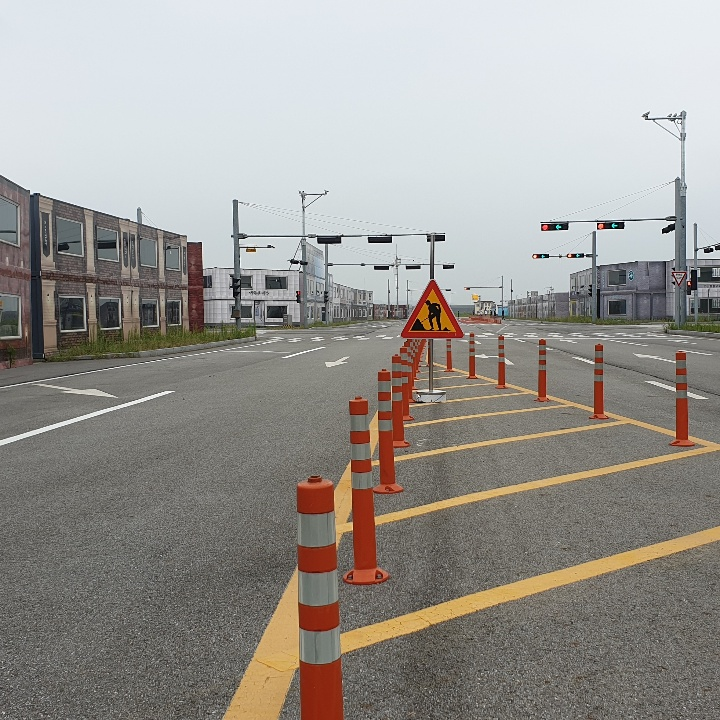const: (409, 292, 452, 335)
